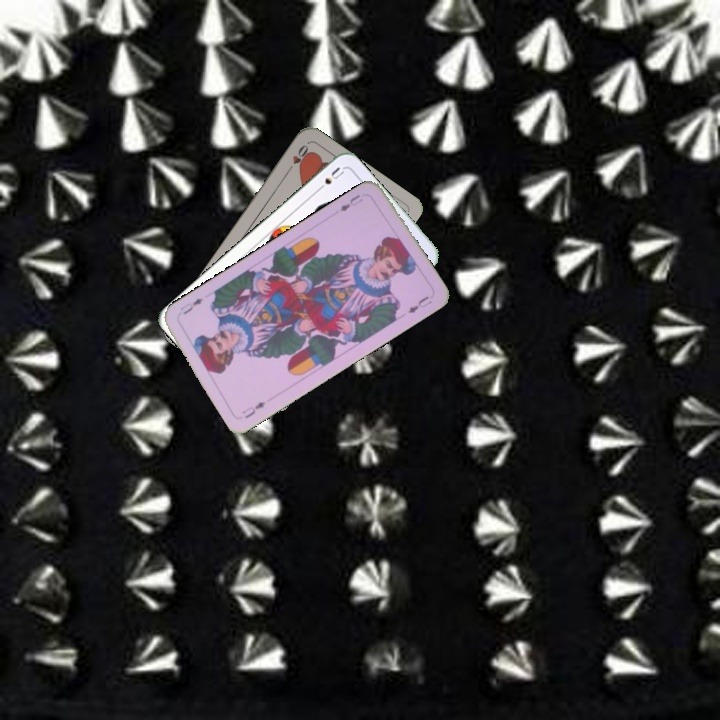EU: (238, 397, 268, 421), (336, 190, 365, 214)
HO: (283, 140, 312, 176)
SU: (312, 163, 347, 195)
